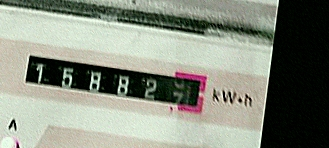1: (32, 58, 49, 81)
2: (142, 74, 161, 100)
5: (59, 61, 76, 88)
7: (171, 85, 185, 103)
8: (115, 71, 132, 96), (87, 67, 103, 91)
screen: (15, 42, 217, 122)
